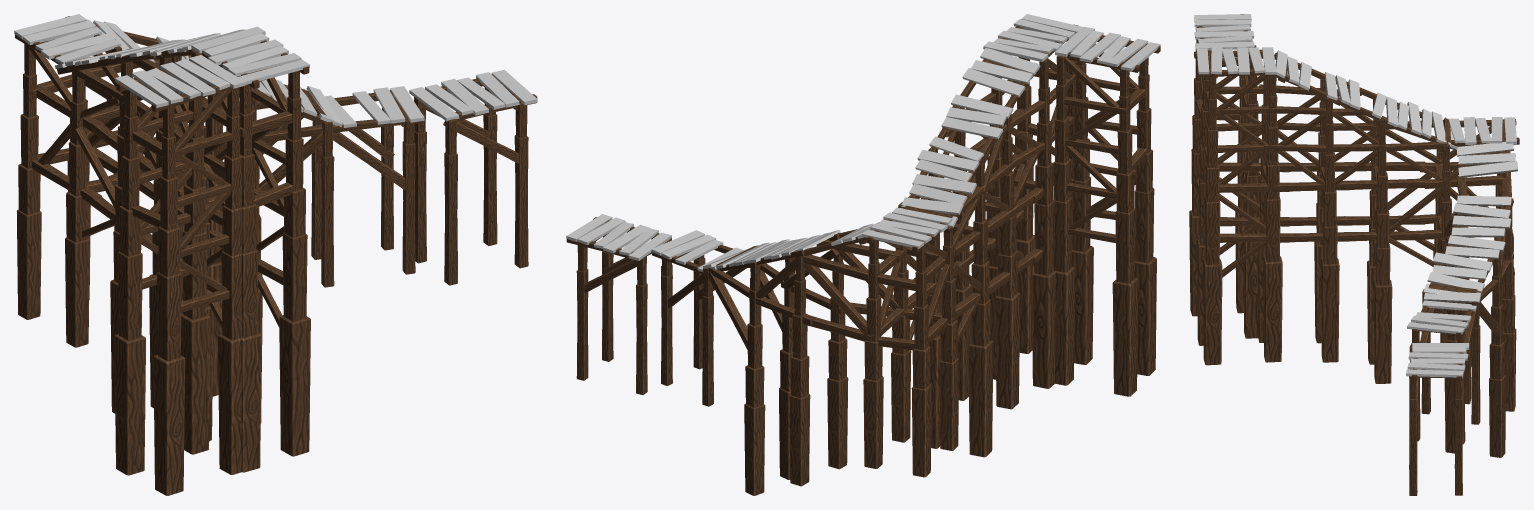
File: M_WoodenWalkway.obj
The picture shows the model from 3 angles, left to right: view 1: azimuth 30°, elevation 25°; view 2: azimuth 150°, elevation 25°; view 3: azimuth 270°, elevation 25°; orthographic projection. The views are drawn at different scales.
Parts seen in each view (by area): view 1: polySurface877; view 2: polySurface877; view 3: polySurface877.
Boxes of the visible parts, <box> form: polySurface877: <box>14,14,537,495</box>; polySurface877: <box>566,14,1160,495</box>; polySurface877: <box>1189,14,1519,495</box>.
Bounding box in the file's own units: 61.14 × 49.54 × 43.85.
